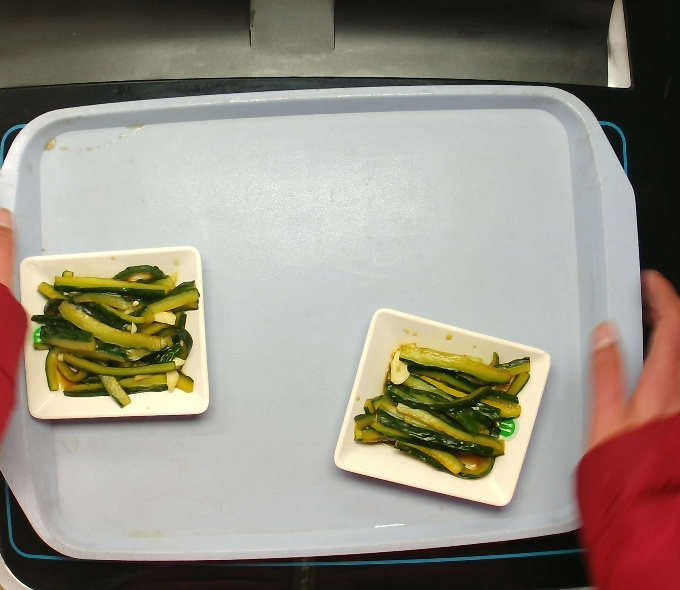wcq-LiangBanHuangGua: (352, 340, 531, 481), (27, 263, 206, 404)
